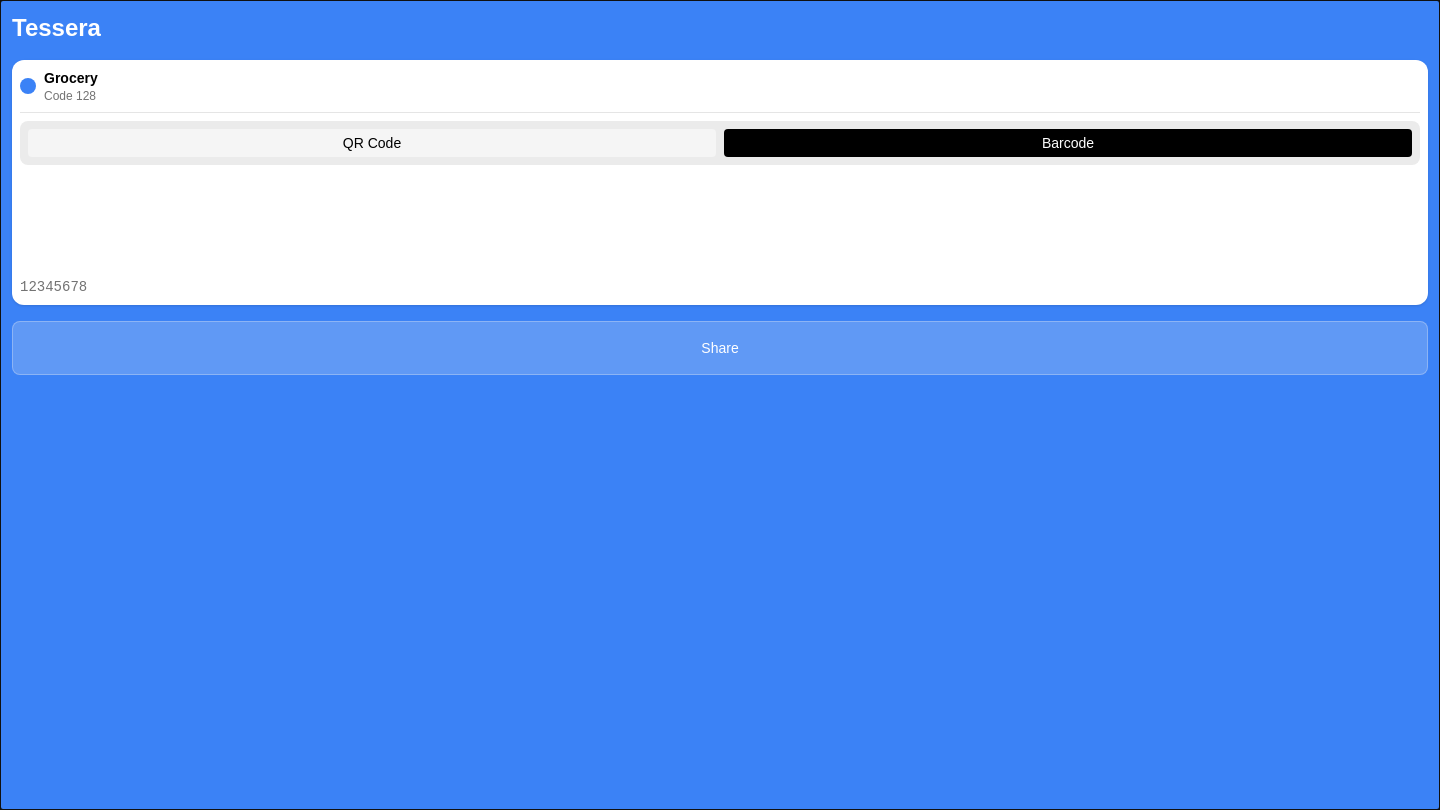
Test case: ActiveCard share as image › hides Share as Image when the displayed code can't be rendered
Check: the button "Share as Image" is not shown
What coordinates should you click on to do the following:
click the button "QR Code"
I would click on:
 (372, 143)
Its box is [28,129,716,157].
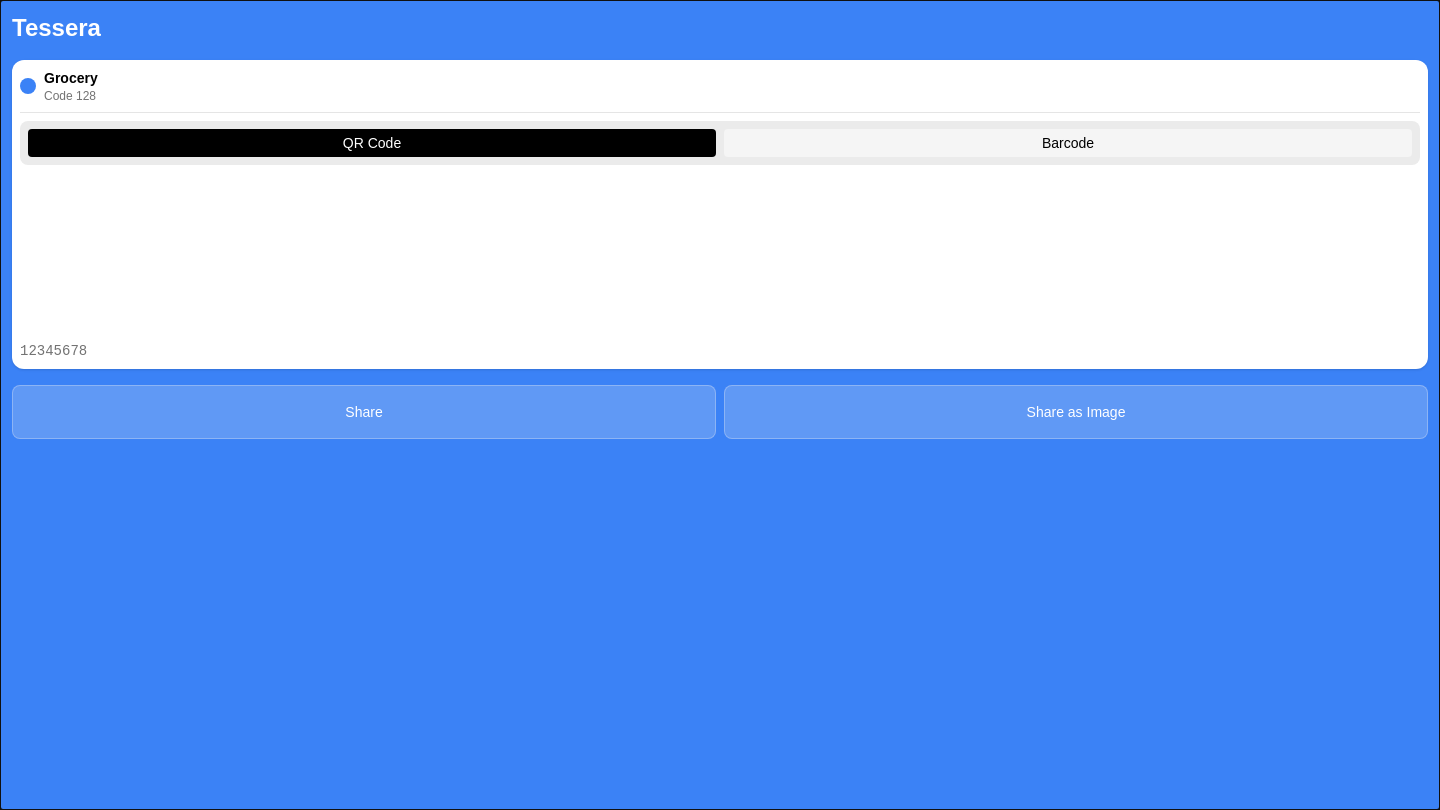
Check: the button "Share as Image" is shown, box [724,385,1428,439]
